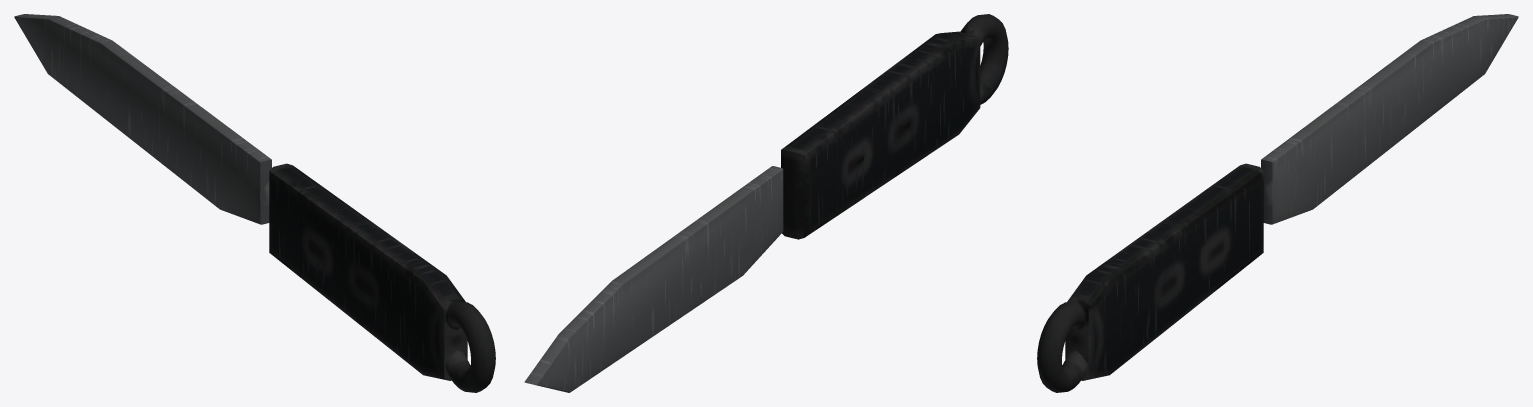
Rendered from knife_skeleton.glb.
3 renders of one model, left to right at view 1: azimuth 30°, elevation 25°; view 2: azimuth 150°, elevation 25°; view 3: azimuth 330°, elevation 25°, orthographic.
Visible parts, largest first — view 1: body_receiver; view 2: body_receiver; view 3: body_receiver.
Boxes of the visible parts, x1,y1,x2,y2 form: body_receiver: (14,14,495,392); body_receiver: (524,14,1008,392); body_receiver: (1037,14,1518,392).
Size of the model in its own units: 0.012 by 0.041 by 0.3558.
Materials: 1 (1 with a texture image).
